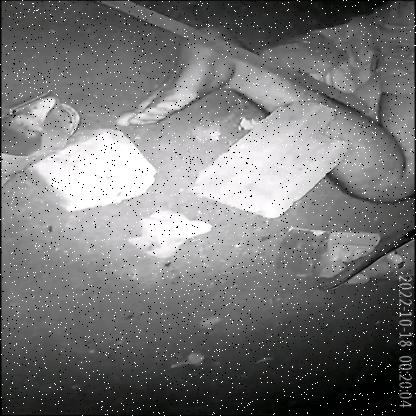leg: (105, 17, 416, 212)
